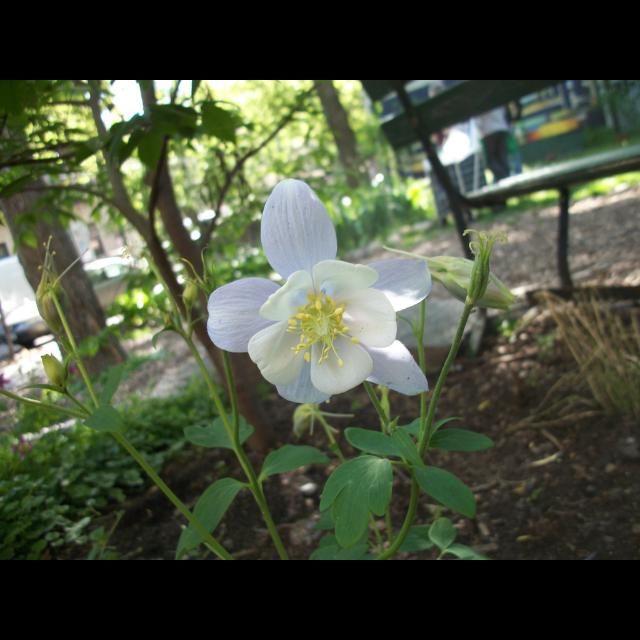Flower: (212, 188, 426, 422)
